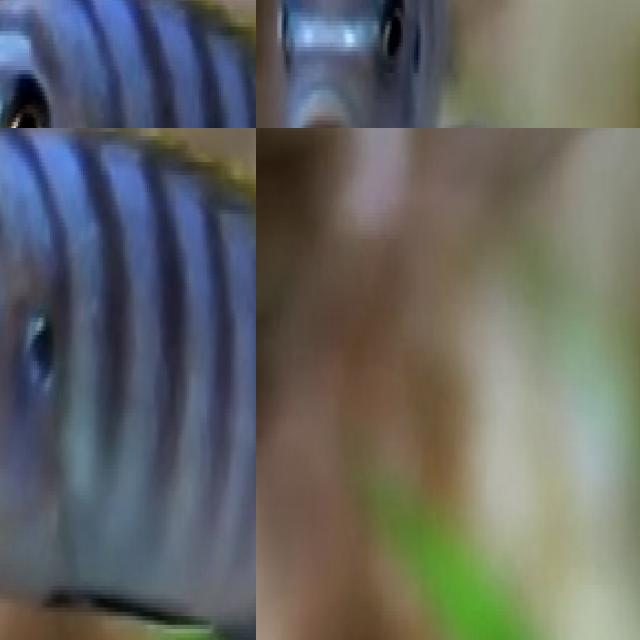fish: (0, 128, 256, 640), (0, 0, 256, 128)
